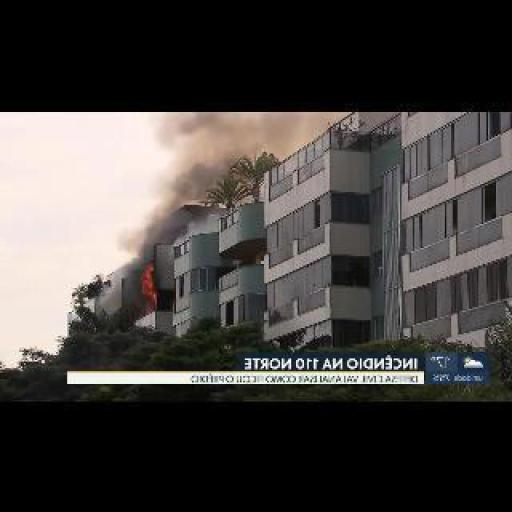smoke: (149, 110, 267, 198), (110, 200, 182, 261), (141, 262, 158, 308)
